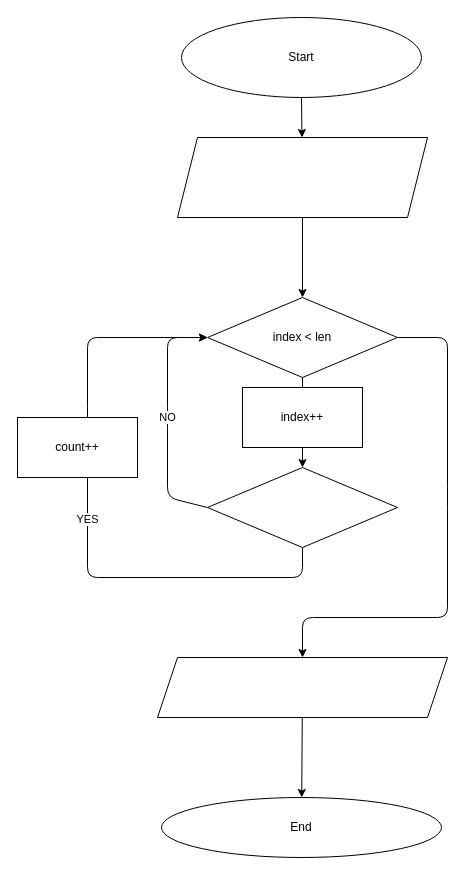
This 473x875 diagram has some shape labels left out. Here are the shapes that lost their labels. From the top down, the centre of each, then its label:
point (302, 177): int[] array int count int len int index
point (302, 507): array[index]>0
point (302, 687): "Колличество введенных чисел больше нуля равно:" count
